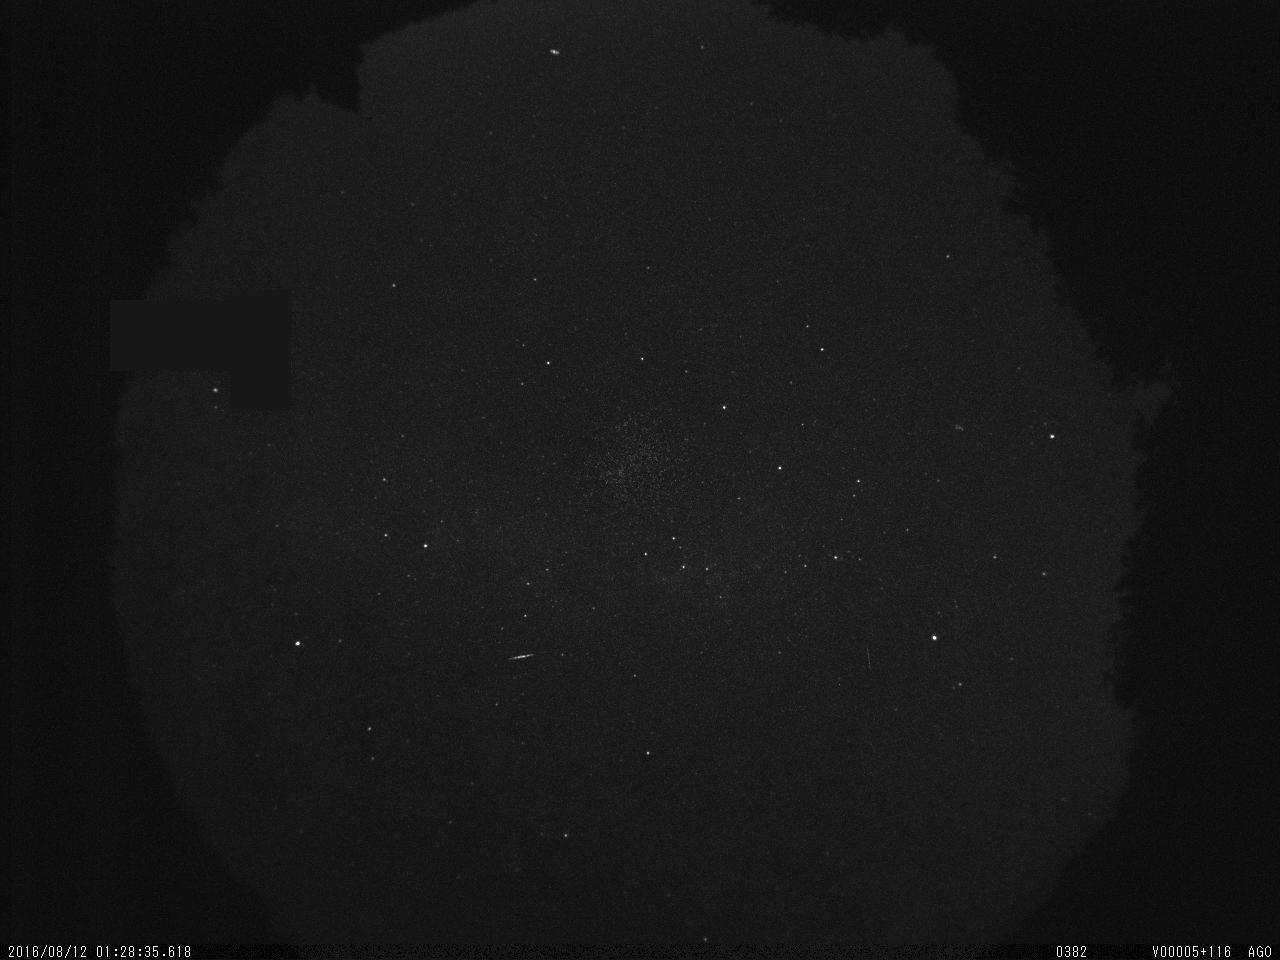Meteor: (504, 649, 538, 665)
